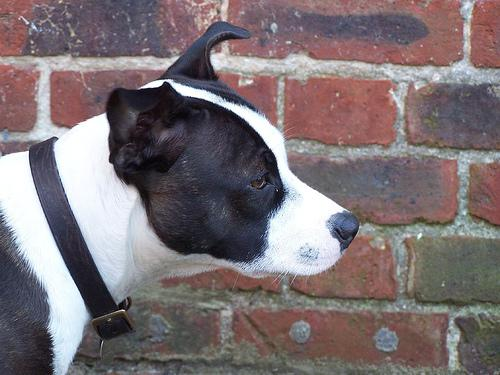dog-staffordshire_bull_terrier: (105, 21, 358, 277)
